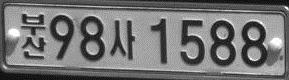1: (147, 18, 174, 64)
5: (180, 19, 205, 66)
8: (240, 20, 268, 67), (209, 19, 236, 67), (79, 14, 106, 61)
9: (49, 14, 75, 60)
부산_V: (20, 13, 46, 59)
사: (109, 19, 136, 61)
